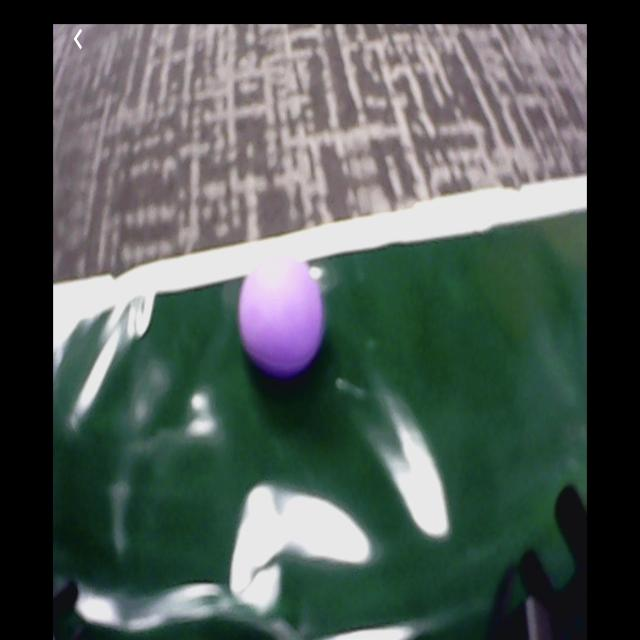ball: (241, 259, 326, 378)
